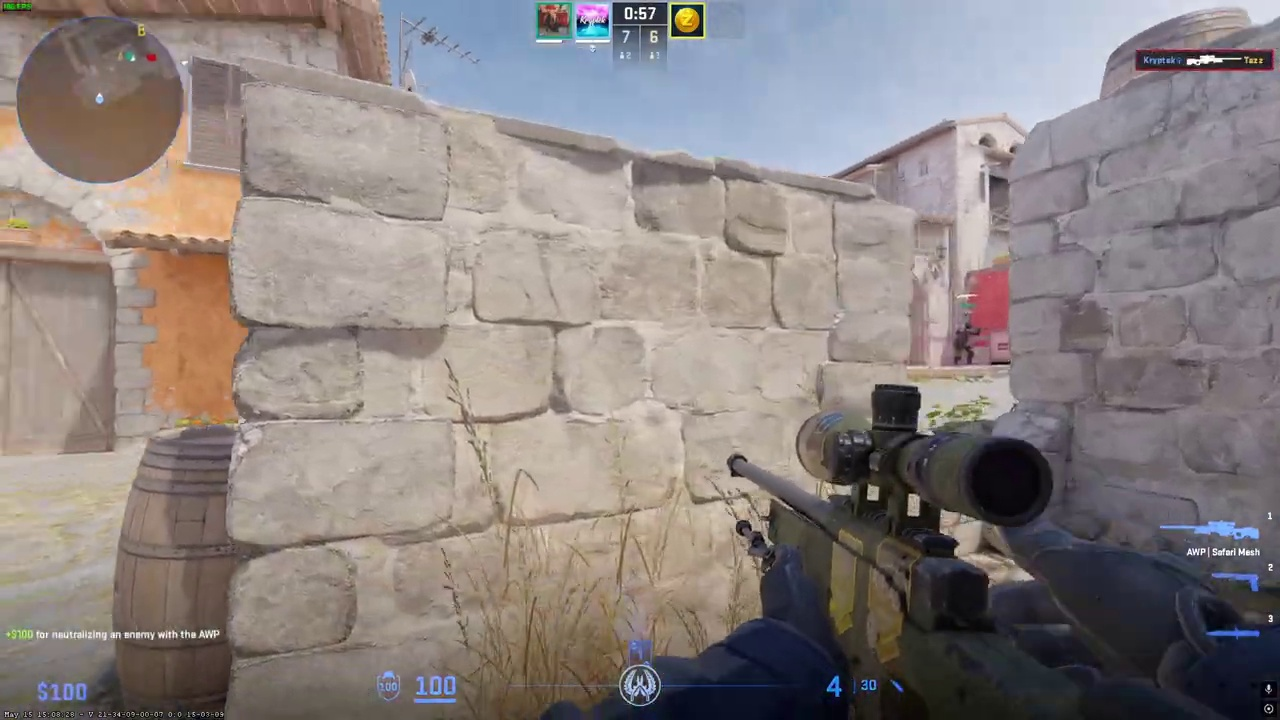CT: (953, 322, 976, 365)
